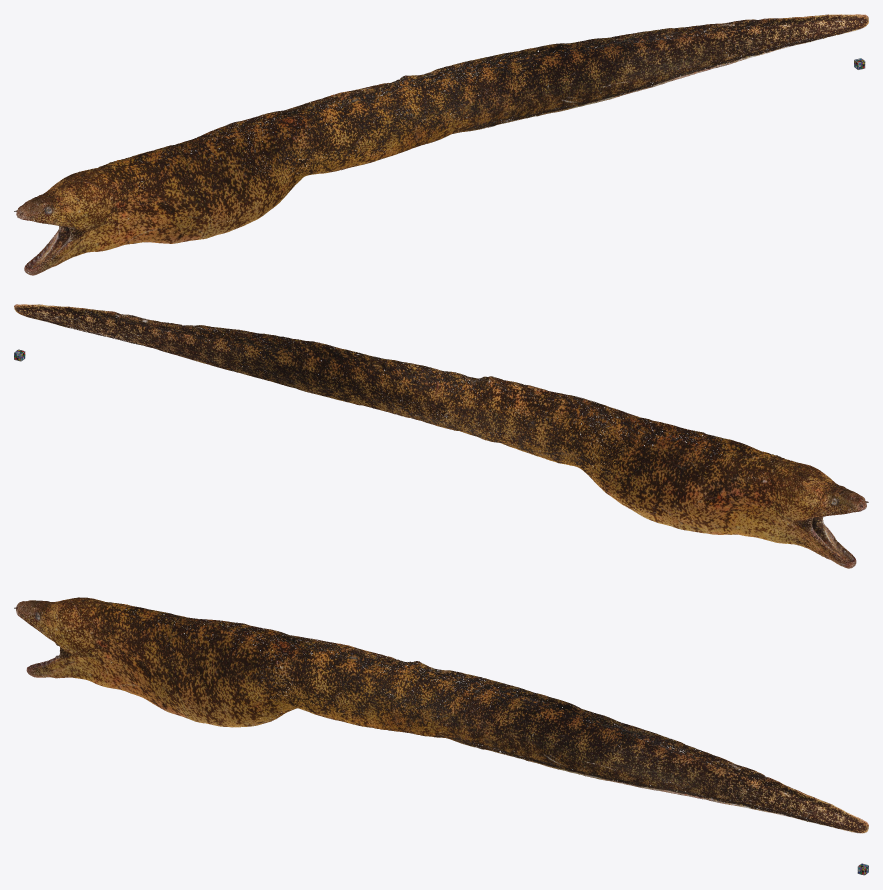
File: scan_moray.glb
3 views of the same model, one above another, from view 1: azimuth 30°, elevation 25°; view 2: azimuth 150°, elevation 25°; view 3: azimuth 330°, elevation 25° (orthographic).
Visible parts, largest first — view 1: Object_6, Object_22, Object_14, Object_29; view 2: Object_14, Object_6, Object_29, Object_22; view 3: Object_6, Object_22, Object_14, Object_29.
Part boxes in pixels (x1=…): Object_6: x1=20, y1=16, x2=854, y2=275; Object_22: x1=16, y1=14, x2=868, y2=275; Object_14: x1=16, y1=16, x2=868, y2=275; Object_29: x1=14, y1=15, x2=863, y2=274; Object_14: x1=52, y1=305, x2=866, y2=567; Object_6: x1=41, y1=306, x2=868, y2=567; Object_29: x1=19, y1=306, x2=868, y2=568; Object_22: x1=14, y1=304, x2=866, y2=568; Object_6: x1=14, y1=597, x2=846, y2=827; Object_22: x1=16, y1=597, x2=868, y2=833; Object_14: x1=17, y1=600, x2=868, y2=832; Object_29: x1=14, y1=599, x2=862, y2=832.
Bounding box in the file's own units: 25.37 × 3.06 × 1.67.
Materials: 5 (5 with a texture image).
